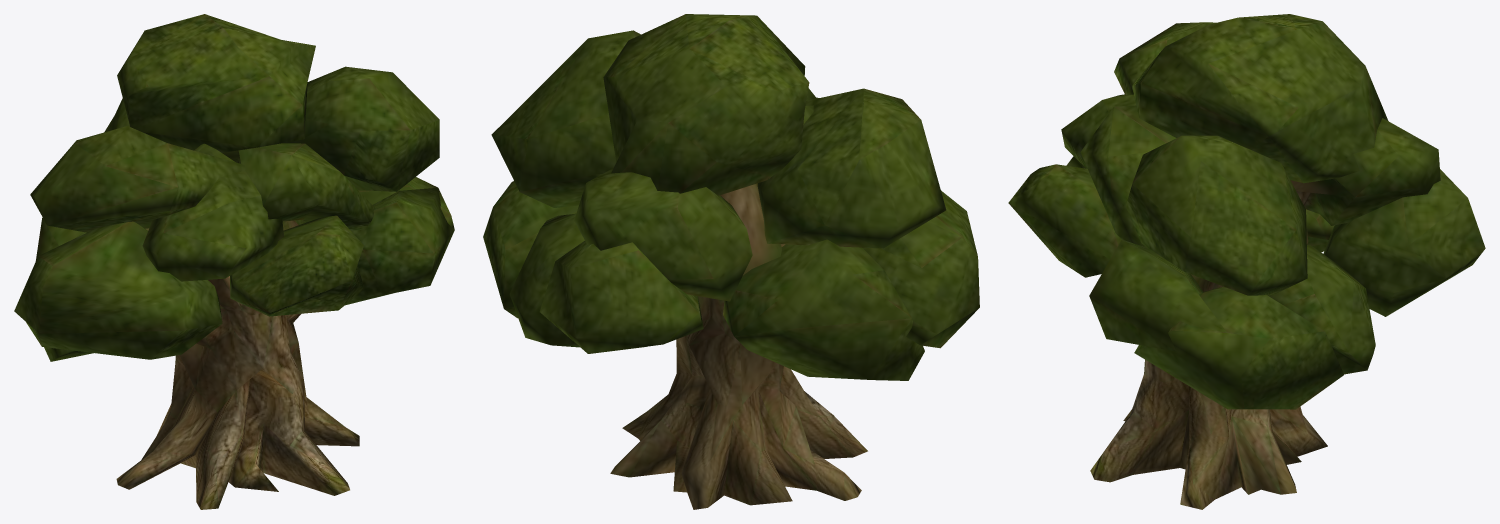
File: tree-oak-01.glb
3 views of the same model, side by side, from view 1: azimuth 30°, elevation 25°; view 2: azimuth 150°, elevation 25°; view 3: azimuth 270°, elevation 25° (orthographic). The views are drawn at different scales.
Bounding box in the file's own units: 0.9648 × 0.9058 × 0.9019.
1 material, 1 textured.
